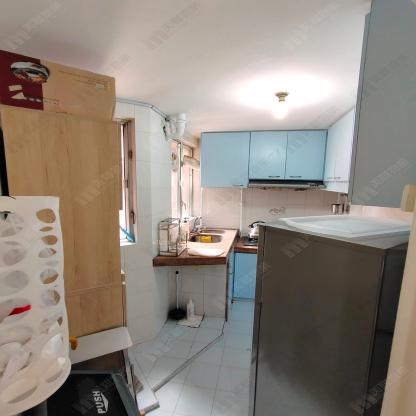Cupboard: (200, 104, 358, 186)
Exhaust Hood: (250, 181, 328, 188)
Faucet: (192, 215, 204, 232)
Fridge: (249, 223, 388, 415)
Sink: (186, 233, 226, 244)
